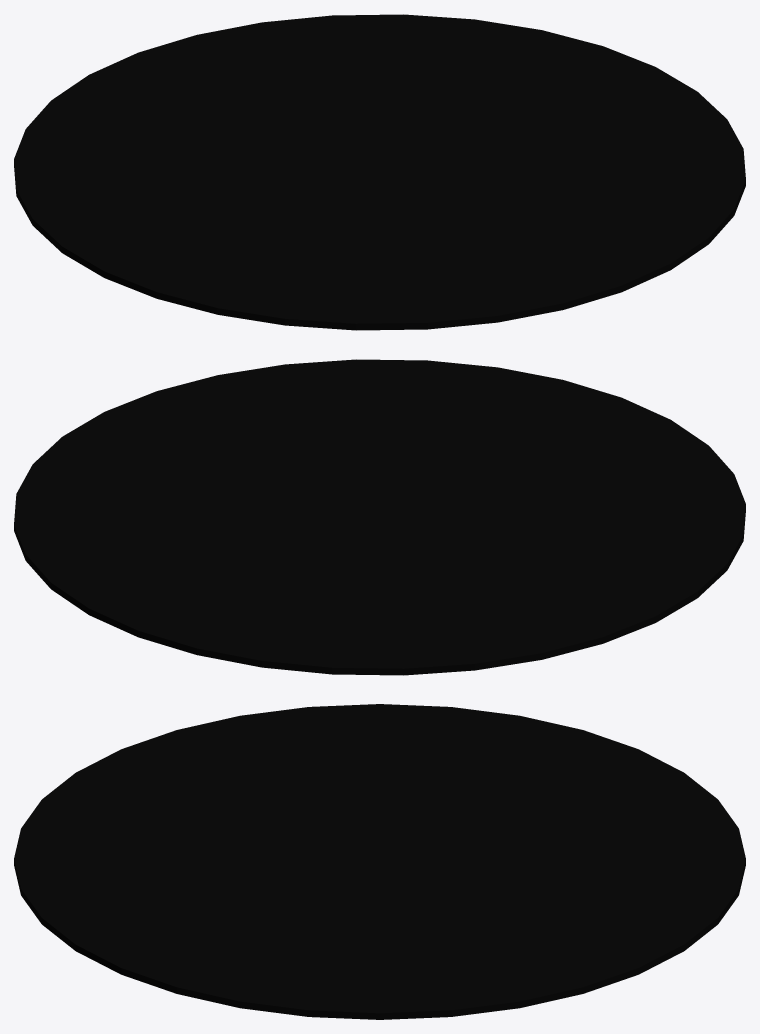
The model's file is Shadow.obj.
3 views of the same model, one above another, from view 1: azimuth 30°, elevation 25°; view 2: azimuth 150°, elevation 25°; view 3: azimuth 270°, elevation 25° (orthographic).
Parts seen in each view (by area): view 1: 円柱; view 2: 円柱; view 3: 円柱.
Part boxes in pixels (x1,y1,x2,y2): 円柱: [14, 14, 745, 330]; 円柱: [14, 359, 745, 675]; 円柱: [14, 704, 745, 1019].
Bounding box in the file's own units: 2 × 0.02 × 2.
Materials: 1 (1 with a texture image).
